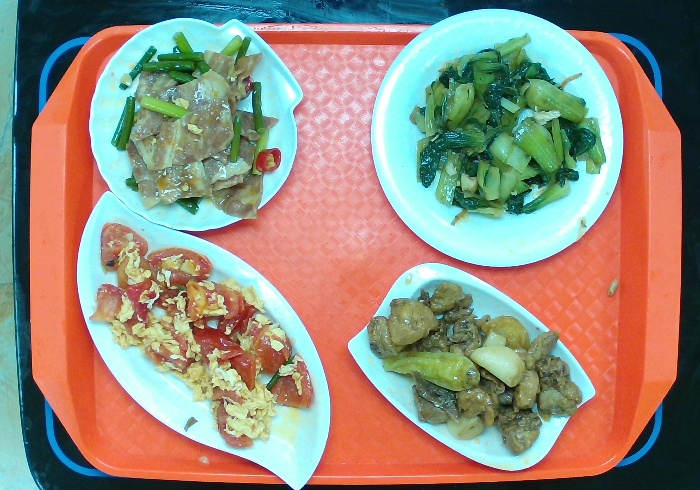RJxy-Bei_Ke_Wan: (86, 15, 307, 236)
RJxy-Jian_Jiao_Fang_Die: (334, 255, 598, 475)
RJxy-Jian_Jiao_Pan: (66, 188, 337, 490)
RJxy-Yuan_Pan: (361, 4, 637, 272)
